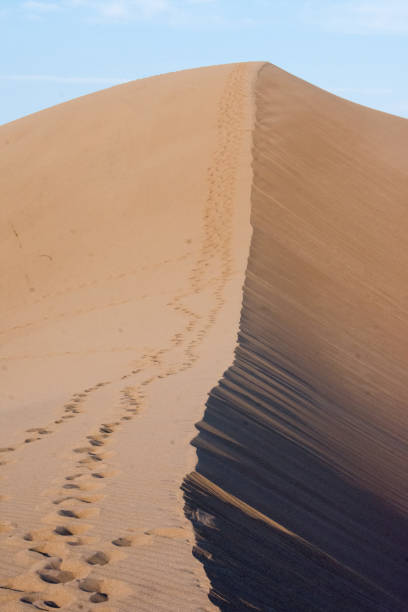human_foot_print: (52, 307, 195, 568), (8, 422, 117, 608), (44, 421, 132, 568), (6, 496, 120, 608), (44, 421, 120, 566), (0, 381, 110, 467), (158, 245, 229, 377), (0, 381, 110, 466), (136, 293, 216, 389), (4, 551, 129, 609), (1, 542, 88, 609), (159, 309, 204, 376), (54, 381, 110, 424), (111, 526, 190, 547), (44, 496, 98, 521), (160, 341, 196, 376), (19, 588, 72, 609), (0, 446, 15, 510), (37, 558, 74, 583), (111, 527, 153, 548), (120, 385, 145, 419), (0, 446, 15, 500), (52, 489, 102, 504), (73, 444, 106, 466), (144, 526, 190, 540), (24, 427, 52, 443), (79, 577, 102, 593), (86, 551, 109, 565), (91, 468, 118, 479), (87, 433, 105, 446), (89, 591, 108, 602), (112, 536, 131, 546), (0, 520, 12, 535), (0, 446, 15, 455), (120, 415, 133, 420)
